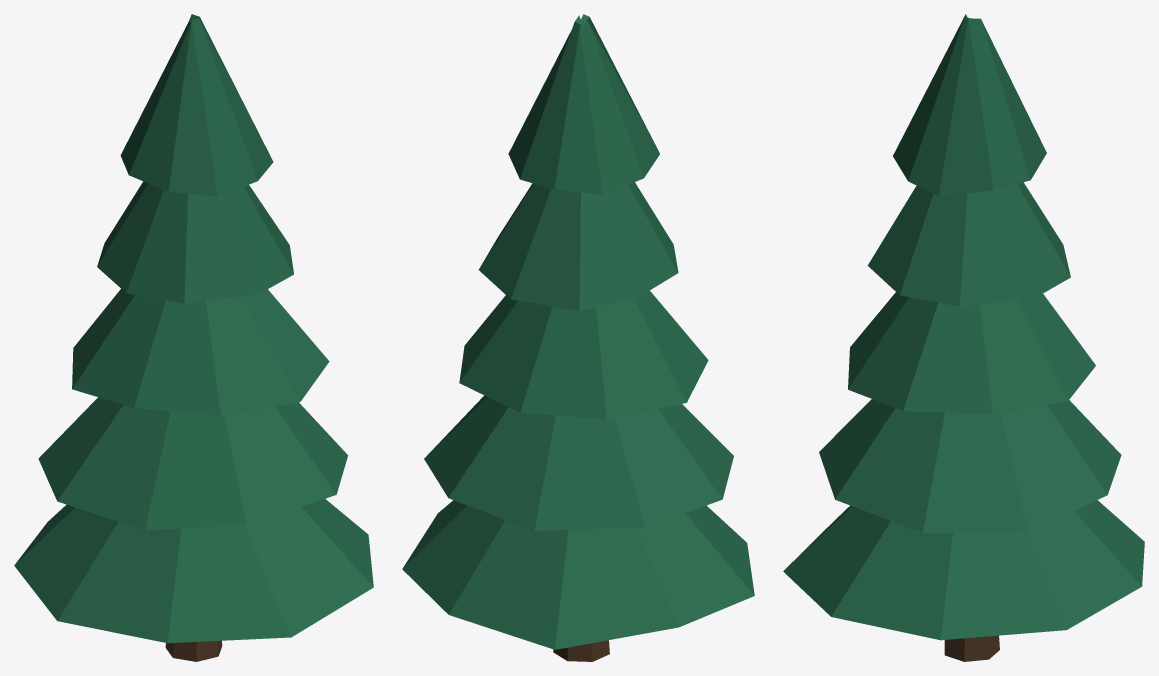
Rendered from PineTree.fbx.
3 views of the same model, side by side, from view 1: azimuth 30°, elevation 25°; view 2: azimuth 150°, elevation 25°; view 3: azimuth 270°, elevation 25° (orthographic).
Visible parts, largest first — view 1: Needles, Trunk; view 2: Needles, Trunk; view 3: Needles, Trunk.
Part boxes in pixels (left/top/right/bottom): Needles: left=14, top=14, right=373, bottom=643; Trunk: left=165, top=640, right=222, bottom=661; Needles: left=402, top=14, right=754, bottom=649; Trunk: left=553, top=640, right=609, bottom=661; Needles: left=783, top=14, right=1144, bottom=640; Trunk: left=944, top=635, right=999, bottom=661.
Size of the model in its own units: 8.7 by 16.78 by 8.67.
